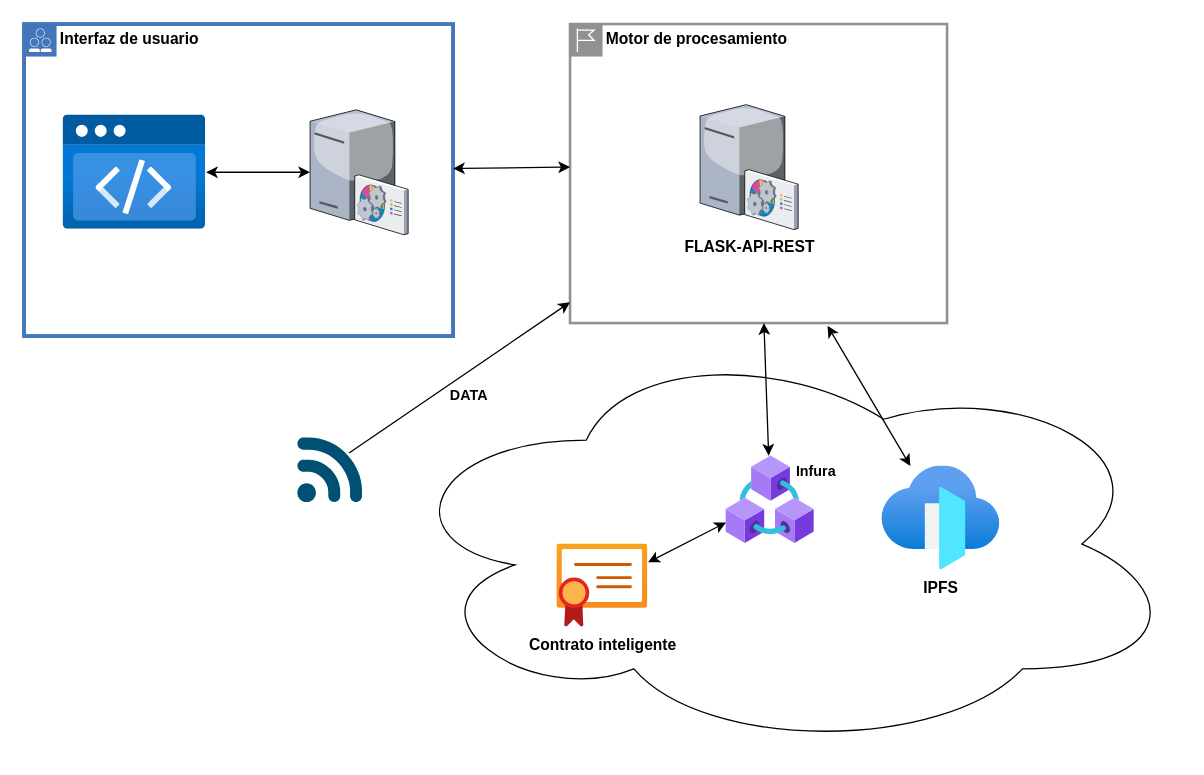
This 1204x775 diagram has some shape labels left out. The centre of each missing label's shape, as x and y in pixels:
Sensores Ambientales: the point at 328,469
Web server: the point at 358,171
WEB-GUI: the point at 133,171
